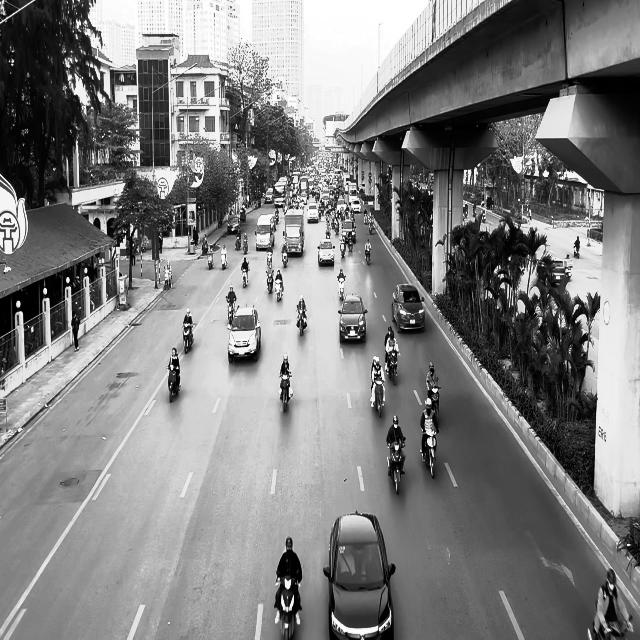car: (323, 510, 395, 640), (227, 304, 260, 363), (391, 284, 425, 332), (338, 294, 368, 343), (537, 254, 574, 287), (317, 238, 335, 266), (227, 215, 240, 234)
motorbike: (275, 575, 300, 639), (386, 436, 406, 494), (421, 427, 438, 478), (370, 376, 385, 418), (278, 371, 292, 412), (167, 364, 180, 402), (429, 384, 441, 416), (387, 350, 398, 384), (182, 322, 194, 353), (296, 304, 307, 336), (226, 296, 236, 324), (336, 275, 346, 300), (163, 266, 172, 290), (266, 268, 274, 293), (241, 263, 249, 288), (275, 278, 283, 302), (281, 244, 288, 266), (207, 247, 214, 269), (364, 243, 371, 264), (221, 249, 227, 269), (573, 242, 580, 258)
